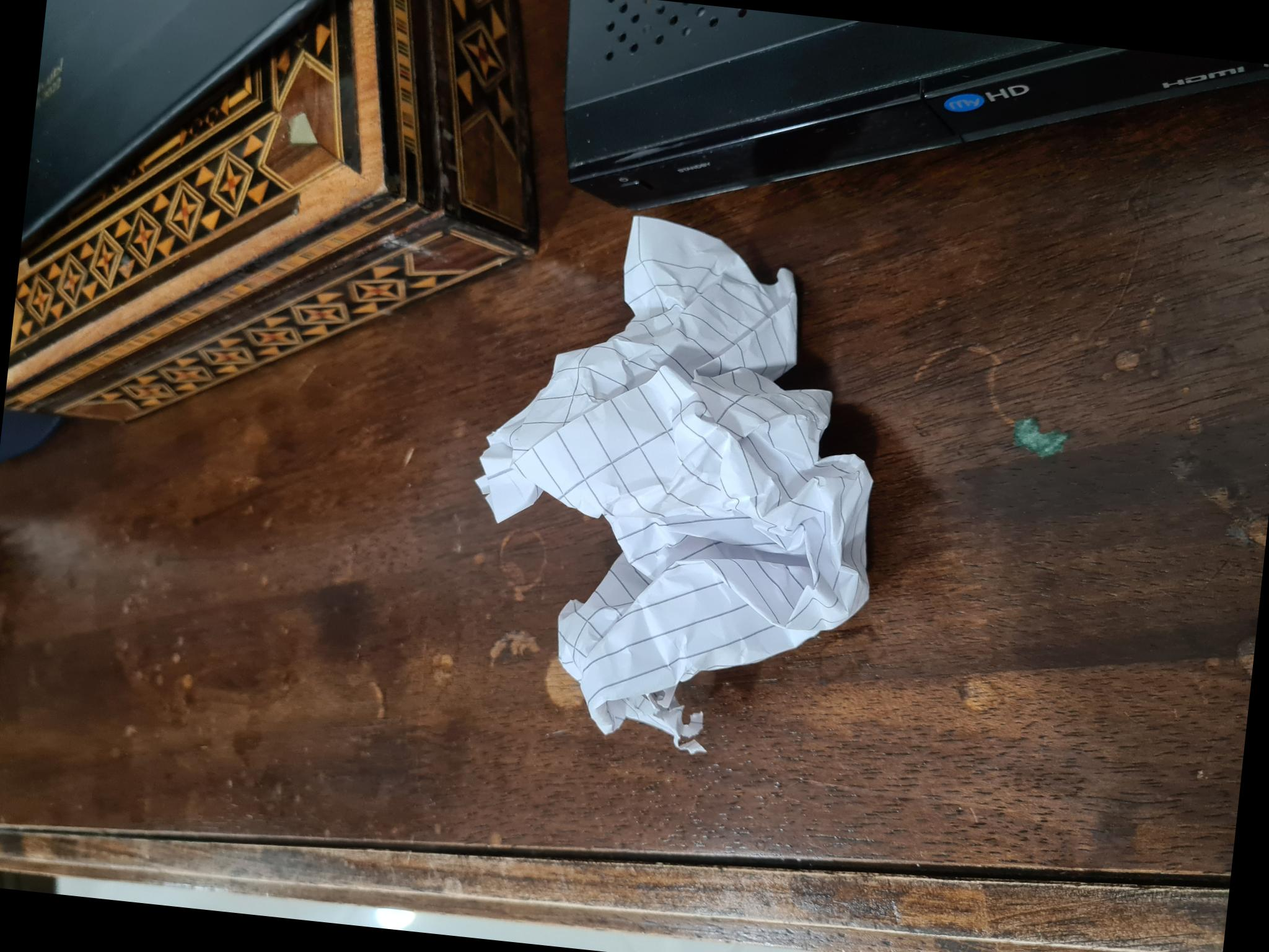Kertas: (169, 445, 735, 867)
